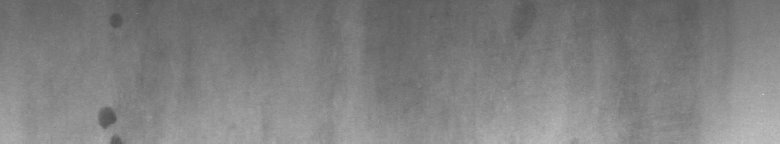fi: (94, 11, 123, 136)
